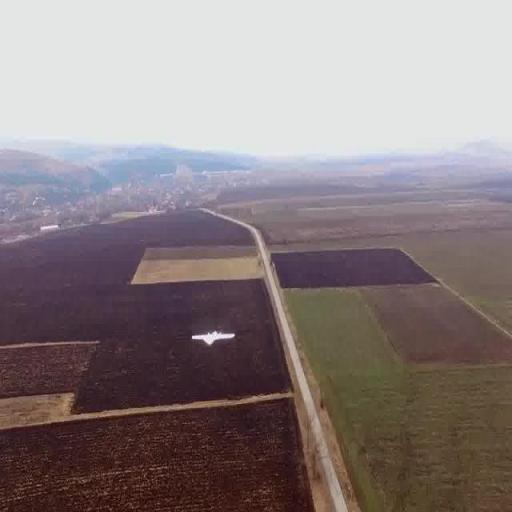uav: (180, 313, 247, 351)
